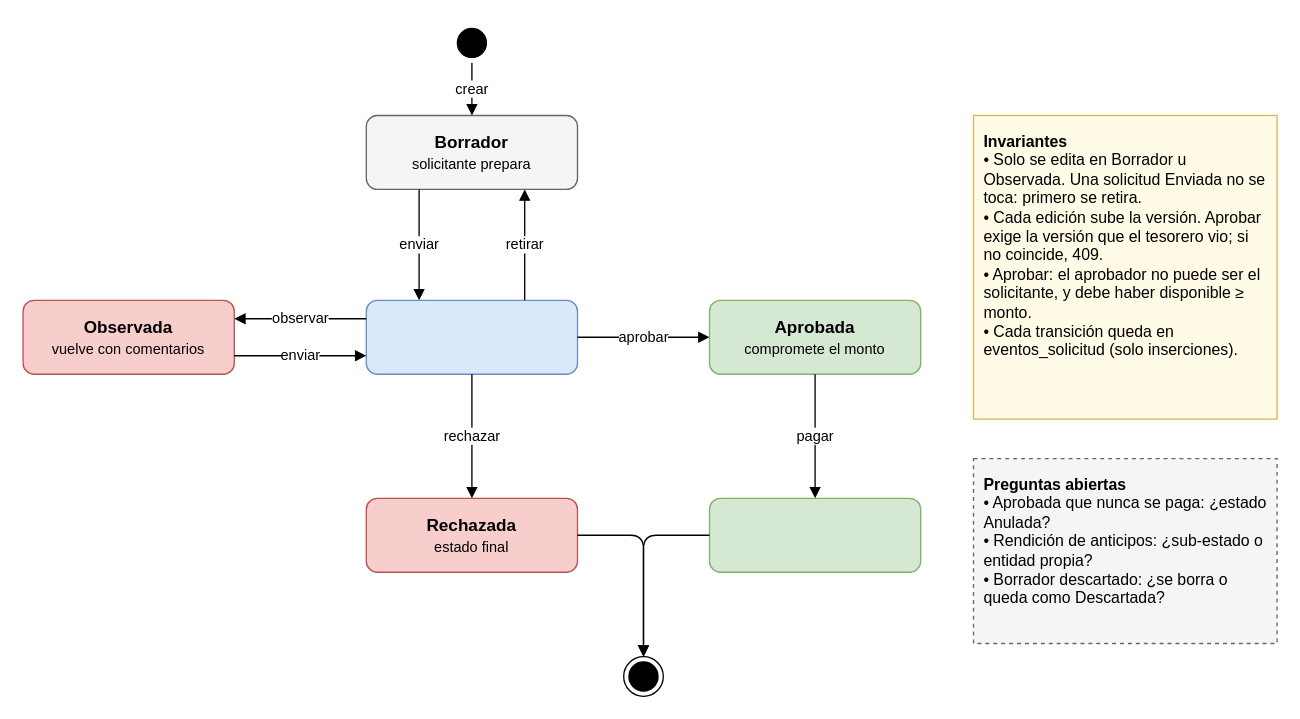
The diagram is 1300 pixels wide and 719 high, and some of its shapes have lost their labels. The centre of each missing label's shape, as x and y in pixels:
"Enviada en la bandeja del tesorero" belongs at point (471, 336).
"Pagada genera el asiento contable" belongs at point (814, 534).
